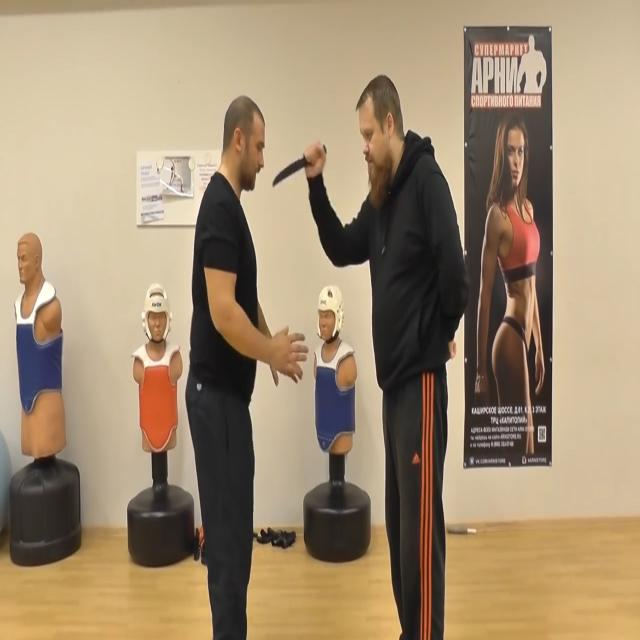knife: (272, 151, 311, 199)
